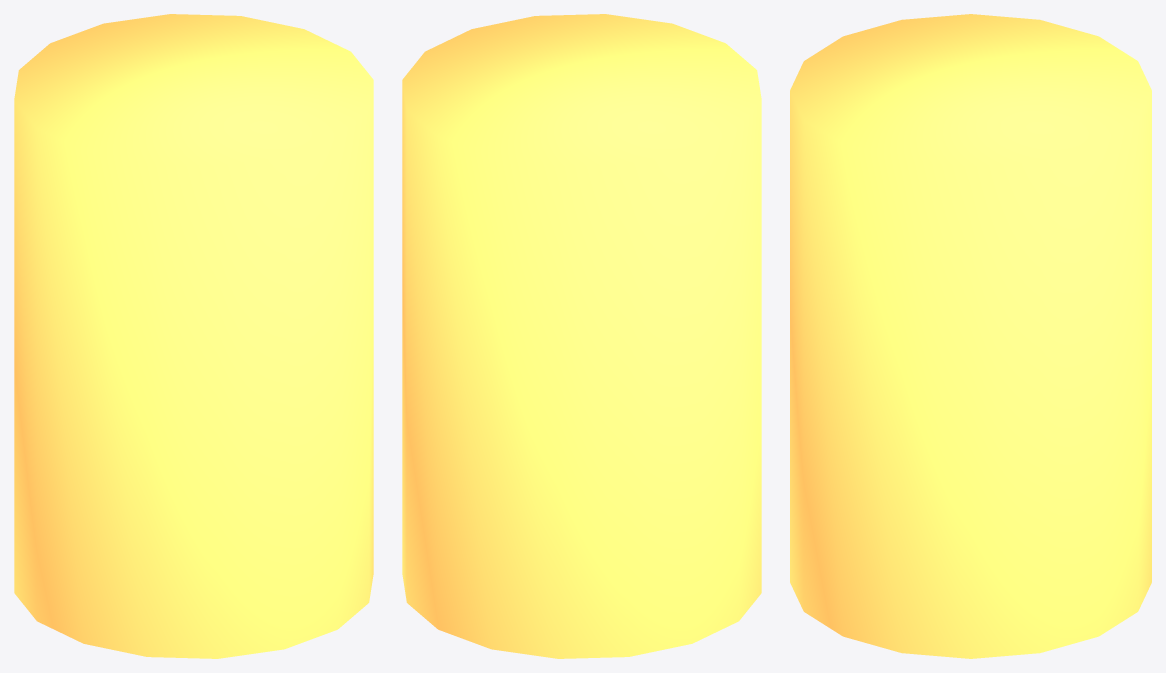
File: lantern.glb
The picture shows the model from 3 angles, left to right: view 1: azimuth 30°, elevation 25°; view 2: azimuth 150°, elevation 25°; view 3: azimuth 270°, elevation 25°; orthographic projection.
Parts seen in each view (by area): view 1: Lantern; view 2: Lantern; view 3: Lantern.
Part boxes in pixels (<box>): Lantern: <box>14,14,373,658</box>; Lantern: <box>402,14,761,658</box>; Lantern: <box>790,14,1151,658</box>.
Size of the model in its own units: 1 by 1.5 by 1.
